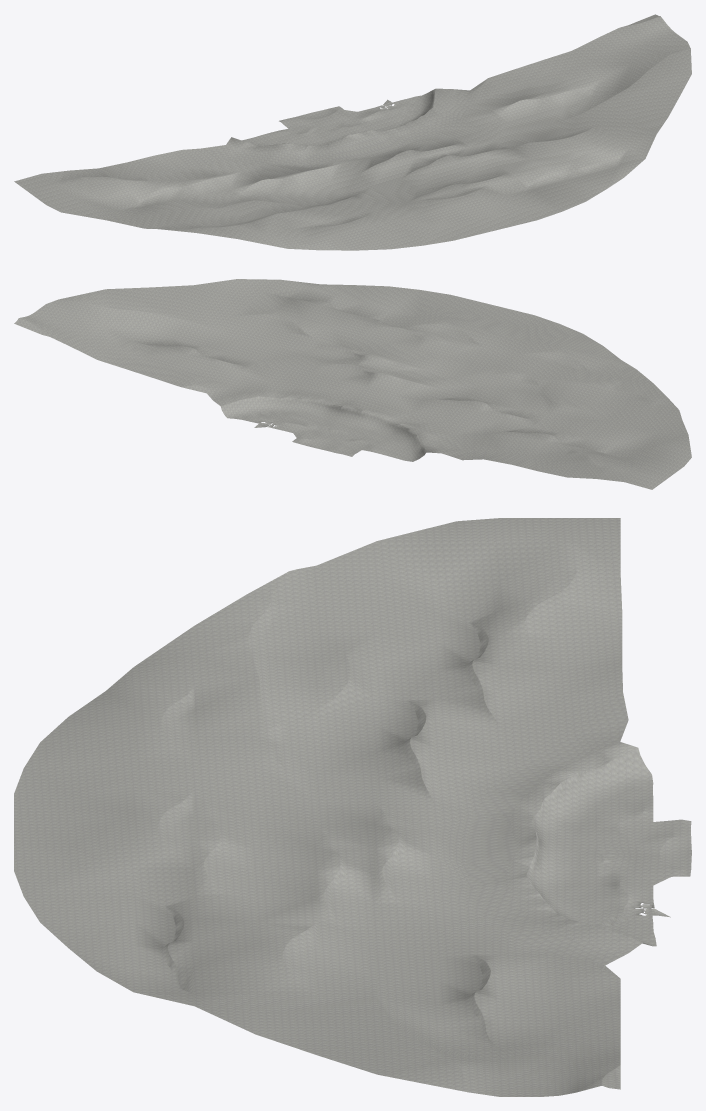
3 renders of one model, top to bottom at view 1: azimuth 30°, elevation 25°; view 2: azimuth 150°, elevation 25°; view 3: azimuth 270°, elevation 25°, orthographic. The views are drawn at different scales.
Parts seen in each view (by area): view 1: 02_-_Default; view 2: 02_-_Default; view 3: 02_-_Default.
Boxes of the visible parts, left/top/right/bottom form: 02_-_Default: left=14, top=14, right=691, bottom=250; 02_-_Default: left=14, top=279, right=691, bottom=489; 02_-_Default: left=14, top=518, right=691, bottom=1096.
Size of the model in its own units: 1840 by 98.08 by 891.
